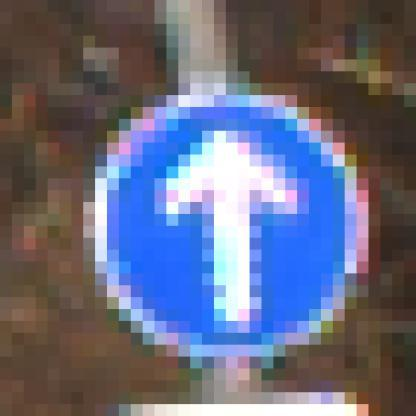straight: (71, 72, 380, 368)
